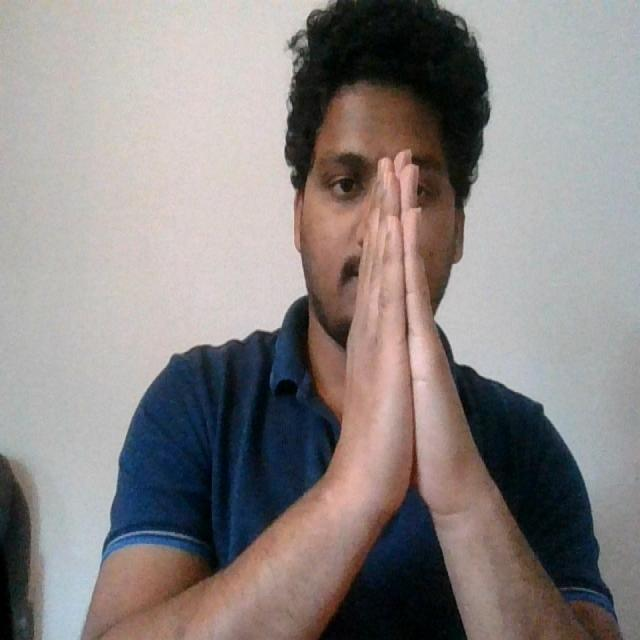Thanks: (322, 139, 502, 547)
